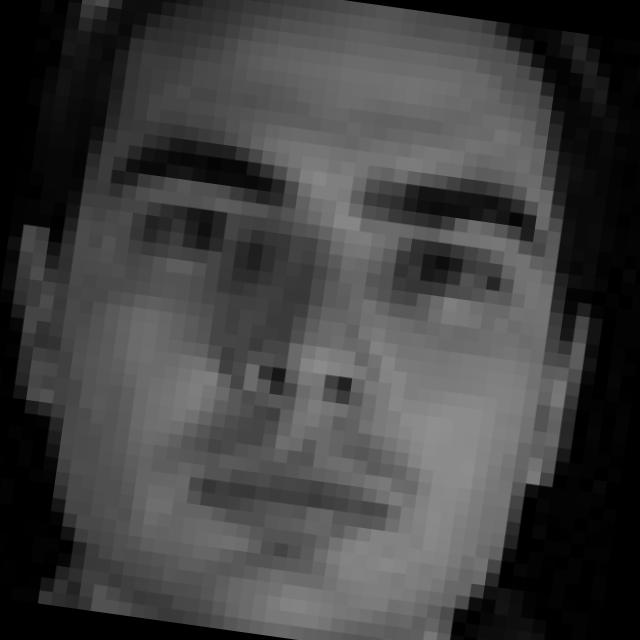neutral: (53, 121, 557, 584)
